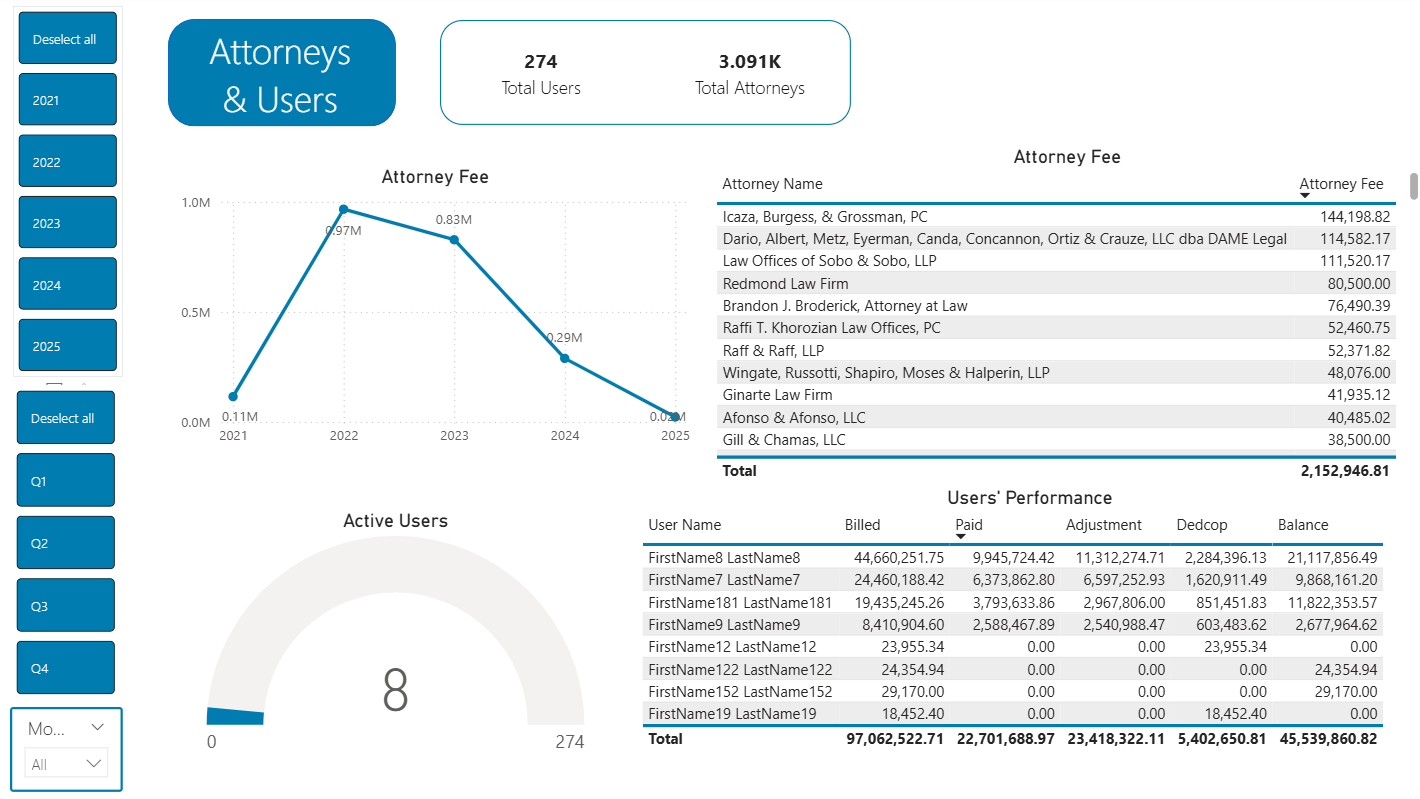

What the dashboard file says about the page in this screenshot:
{"tool":"powerbi","page":{"name":"Attorneys - Users","canvas":[1280,720],"ordinal":4},"visuals":[{"type":"tableEx","title":"Attorney Fee","fields":{"Values":["Dim_Attorneys.name","Sum(Fact_Bill_Payments.attorney)"]},"box":[640,133.4,640,305.5],"z":0},{"type":"tableEx","title":"Users'' Performance","fields":{"Values":["Dim_Users.full_name","Sum(Fact_Bill_Payments.billed)","Sum(Fact_Bill_Payments.paid)","Sum(Fact_Bill_Payments.adjustment)","Sum(Fact_Bill_Payments.dedcop)","Sum(Fact_Bill_Payments.balance)"]},"box":[574.3,446.6,705.7,257.2],"z":1000},{"type":"cardVisual","fields":{"Data":["CountNonNull(Dim_Users.id)","CountNonNull(Dim_Attorneys.id)"]},"box":[381.3,4.9,403.6,128.4],"z":2000},{"type":"shape","box":[154.7,20.4,204.3,96.3],"z":3000},{"type":"textbox","box":[161.5,20.4,187.7,103.1],"z":4000},{"type":"advancedSlicerVisual","fields":{"Values":["Dim_Date.Year"]},"box":[16.5,8.8,98.2,332.6],"z":5000},{"type":"advancedSlicerVisual","fields":{"Values":["Dim_Date.Quarter"]},"box":[14.5,348,98.6,282.3],"z":6000},{"type":"slicer","fields":{"Values":["Dim_Date.Month Name"]},"box":[13.5,637.1,100.5,76.4],"z":7000},{"type":"lineChart","title":"Attorney Fee","fields":{"Y":["Sum(Fact_Bill_Payments.attorney)"],"Category":["Dim_Date.Year"]},"box":[161.5,151.8,466,260.1],"z":8000},{"type":"gauge","title":"Active Users","fields":{"Y":["Count(Fact_Bill_Payments.user_id)"],"MaxValue":["Count(Dim_Users.id)"]},"box":[157.6,459.2,402.2,229.1],"z":9000}]}

Visuals, with their boxes in screenshot pixels (x1, y1, x2, y2), scaled from the page's 1280x720 canvas onto the 1420x799 screenshot:
"Attorney Fee" tableEx: <region>710, 148, 1419, 487</region>
"Users'' Performance" tableEx: <region>637, 496, 1419, 781</region>
cardVisual - CountNonNull(Dim_Users.id) x CountNonNull(Dim_Attorneys.id): <region>423, 5, 871, 148</region>
shape: <region>172, 23, 398, 130</region>
textbox: <region>179, 23, 387, 137</region>
advancedSlicerVisual - Dim_Date.Year: <region>18, 10, 127, 379</region>
advancedSlicerVisual - Dim_Date.Quarter: <region>16, 386, 125, 699</region>
slicer - Dim_Date.Month Name: <region>15, 707, 126, 792</region>
"Attorney Fee" lineChart: <region>179, 168, 696, 457</region>
"Active Users" gauge: <region>175, 510, 621, 764</region>
